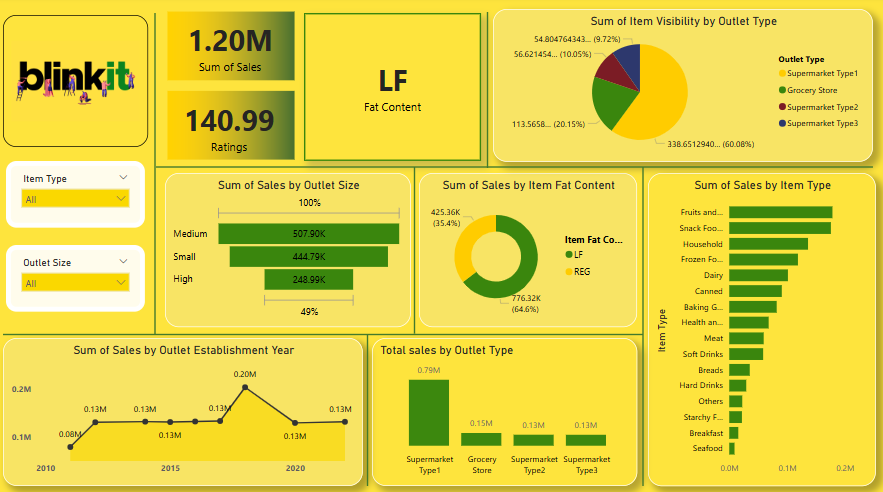

Layout of this report page (visuals, bound fields, positions):
{"tool":"powerbi","page":{"name":"Page 1","canvas":[1280,720],"ordinal":0},"visuals":[{"type":"image","box":[240.5,13,193,115.2],"z":0},{"type":"card","fields":{"Values":["Min(BlinkIT Grocery Data.Item Fat Content)"]},"box":[442.1,23,254.9,213.1],"z":1000},{"type":"card","fields":{"Values":["Sum(BlinkIT Grocery Data.Sales)"]},"box":[237.6,24.5,195.8,93.6],"z":2000},{"type":"slicer","fields":{"Values":["BlinkIT Grocery Data.Outlet Size"]},"box":[13,357.1,200.2,96.5],"z":3000},{"type":"donutChart","fields":{"Category":["BlinkIT Grocery Data.Item Fat Content"],"Y":["Sum(BlinkIT Grocery Data.Sales)"]},"box":[607.7,253.4,313.9,221.8],"z":4000},{"type":"slicer","fields":{"Values":["BlinkIT Grocery Data.Item Type"]},"box":[13,236.2,200.2,96.5],"z":5000},{"type":"funnel","fields":{"Y":["Sum(BlinkIT Grocery Data.Sales)"],"Category":["BlinkIT Grocery Data.Outlet Size"]},"box":[241.9,253.4,354.2,221.8],"z":6000},{"type":"lineChart","fields":{"Category":["BlinkIT Grocery Data.Outlet Establishment Year"],"Y":["Sum(BlinkIT Grocery Data.Sales)"]},"box":[8.6,491,518.4,213.1],"z":7000},{"type":"pieChart","fields":{"Y":["Sum(BlinkIT Grocery Data.Item Visibility)"],"Category":["BlinkIT Grocery Data.Outlet Type"]},"box":[714.2,17.3,547.2,220.3],"z":8000},{"type":"barChart","fields":{"Category":["BlinkIT Grocery Data.Item Type"],"Y":["Sum(BlinkIT Grocery Data.Sales)"]},"box":[937.4,253.4,328.3,450.7],"z":9000},{"type":"image","box":[240.5,128.2,193,112.3],"z":10000},{"type":"card","fields":{"Values":["BlinkIT Grocery Data.Ratings"]},"box":[237.6,133.9,193,106.6],"z":11000},{"type":"image","box":[8.6,25.9,208.8,190.1],"z":12000},{"type":"clusteredColumnChart","fields":{"Y":["BlinkIT Grocery Data.Total sales"],"Category":["BlinkIT Grocery Data.Outlet Type"]},"box":[540,491,381.6,213.1],"z":13000},{"type":"shape","box":[217.4,23,20.2,462.2],"z":13001},{"type":"shape","box":[229,236.2,1032.5,17.3],"z":13002},{"type":"shape","box":[913,244.8,34.6,459.4],"z":13003},{"type":"shape","box":[583.2,244.8,36,240.5],"z":13004},{"type":"shape","box":[8.6,481,921.6,10.1],"z":13005},{"type":"shape","box":[688.3,21.6,36,224.6],"z":13006},{"type":"shape","box":[515.5,485.3,36,218.9],"z":13007}]}

Visuals, with their boxes in screenshot pixels (x1, y1, x2, y2), scaled from the page's 1280x720 canvas onto the 883x492 screenshot:
image: 166/9/299/88
card - Min(BlinkIT Grocery Data.Item Fat Content): 305/16/481/161
card - Sum(BlinkIT Grocery Data.Sales): 164/17/299/81
slicer - BlinkIT Grocery Data.Outlet Size: 9/244/147/310
donutChart - BlinkIT Grocery Data.Item Fat Content x Sum(BlinkIT Grocery Data.Sales): 419/173/636/325
slicer - BlinkIT Grocery Data.Item Type: 9/161/147/227
funnel - Sum(BlinkIT Grocery Data.Sales) x BlinkIT Grocery Data.Outlet Size: 167/173/411/325
lineChart - BlinkIT Grocery Data.Outlet Establishment Year x Sum(BlinkIT Grocery Data.Sales): 6/336/364/481
pieChart - Sum(BlinkIT Grocery Data.Item Visibility) x BlinkIT Grocery Data.Outlet Type: 493/12/870/162
barChart - BlinkIT Grocery Data.Item Type x Sum(BlinkIT Grocery Data.Sales): 647/173/873/481
image: 166/88/299/164
card - BlinkIT Grocery Data.Ratings: 164/91/297/164
image: 6/18/150/148
clusteredColumnChart - BlinkIT Grocery Data.Total sales x BlinkIT Grocery Data.Outlet Type: 373/336/636/481
shape: 150/16/164/332
shape: 158/161/870/173
shape: 630/167/654/481
shape: 402/167/427/332
shape: 6/329/642/336
shape: 475/15/500/168
shape: 356/332/380/481
